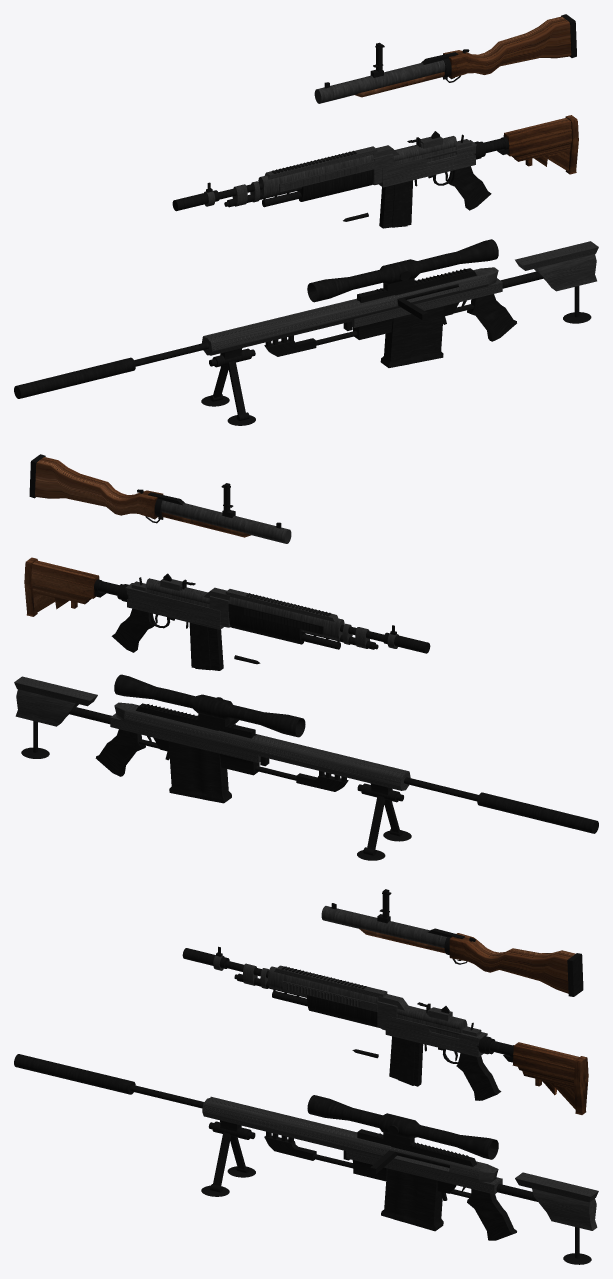
File: weapons-pack.glb
3 views of the same model, one above another, from view 1: azimuth 30°, elevation 25°; view 2: azimuth 150°, elevation 25°; view 3: azimuth 330°, elevation 25° (orthographic).
Parts seen in each view (by area): view 1: Object_2, Object_8, Object_7, Object_5, Object_4, Object_6, Object_9; view 2: Object_2, Object_7, Object_8, Object_5, Object_4, Object_6, Object_9; view 3: Object_2, Object_8, Object_7, Object_5, Object_4, Object_6, Object_9.
Boxes of the visible parts, x1=… form: Object_2: x1=14, y1=14, x2=591, y2=425; Object_8: x1=204, y1=136, x2=477, y2=206; Object_7: x1=202, y1=267, x2=502, y2=355; Object_5: x1=443, y1=16, x2=571, y2=78; Object_4: x1=503, y1=115, x2=578, y2=174; Object_6: x1=515, y1=241, x2=598, y2=291; Object_9: x1=314, y1=60, x2=445, y2=103; Object_2: x1=21, y1=454, x2=598, y2=860; Object_7: x1=110, y1=702, x2=410, y2=790; Object_8: x1=125, y1=578, x2=398, y2=648; Object_5: x1=35, y1=457, x2=163, y2=518; Object_4: x1=24, y1=557, x2=99, y2=616; Object_6: x1=14, y1=676, x2=97, y2=726; Object_9: x1=161, y1=500, x2=291, y2=543; Object_2: x1=14, y1=889, x2=591, y2=1264; Object_8: x1=213, y1=955, x2=487, y2=1057; Object_7: x1=202, y1=1096, x2=502, y2=1194; Object_5: x1=449, y1=933, x2=575, y2=993; Object_4: x1=512, y1=1042, x2=588, y2=1114; Object_6: x1=515, y1=1172, x2=598, y2=1230; Object_9: x1=321, y1=906, x2=446, y2=948.
Size of the model in its own units: 3.17 by 1.72 by 0.4351.
8 materials, 8 textured.
